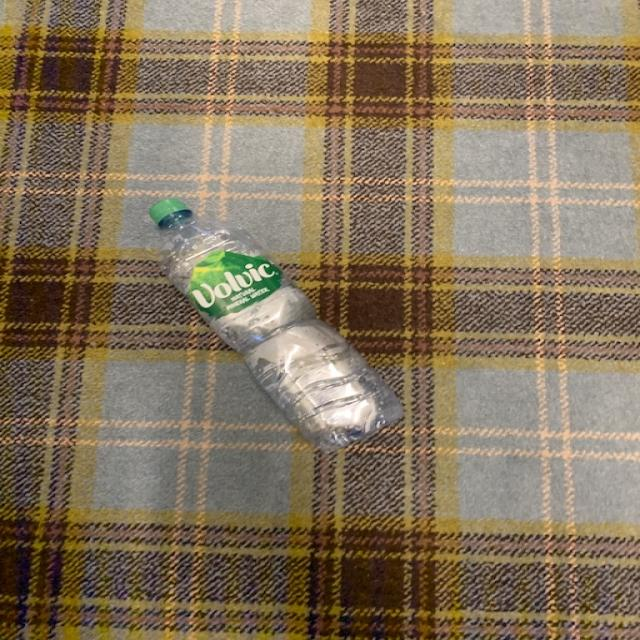Plastic: (149, 200, 402, 452)
